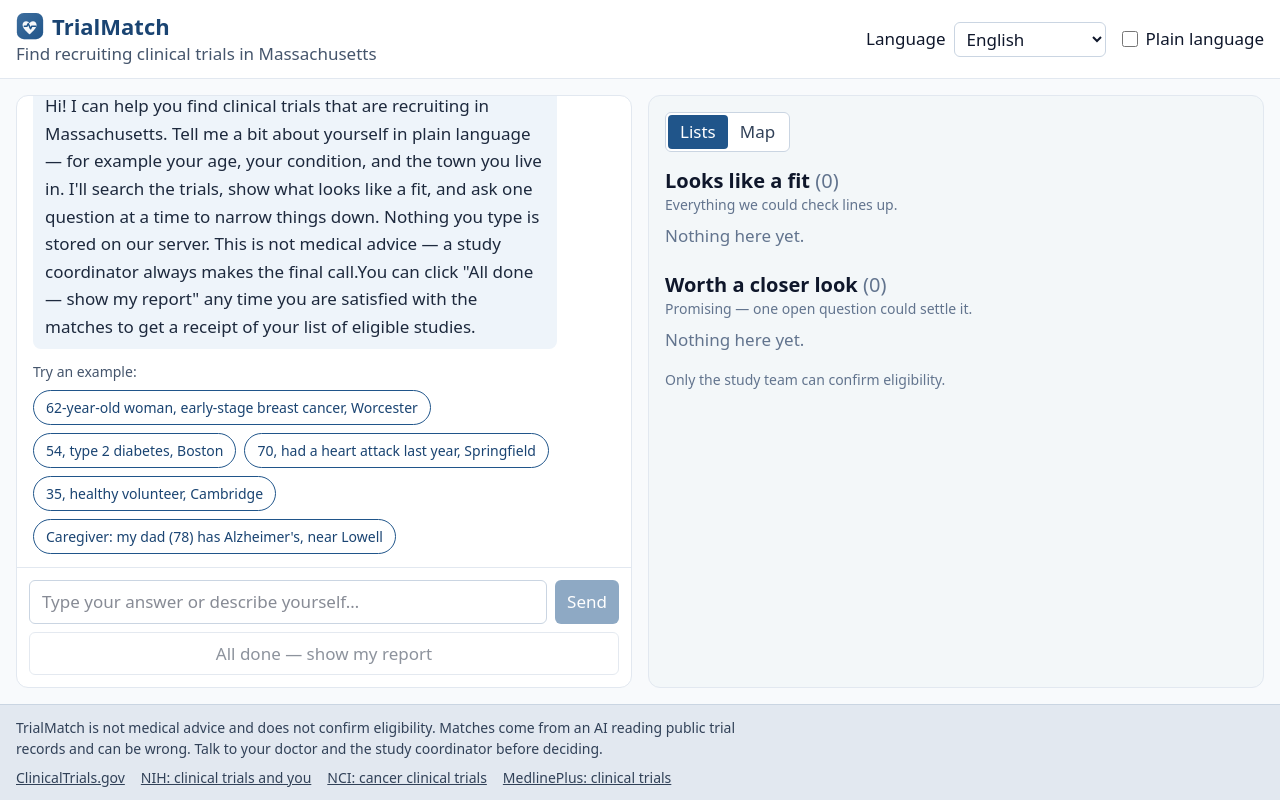
it: App › renders intro, user and assistant messages
(page scrolled)
Expected: the list item "nothing you type is stored" is shown, [45, 96, 542, 338]
In the field named "Your message": (288, 602) [29, 580, 547, 624], type "I'm 54 with type 2 diabetes"
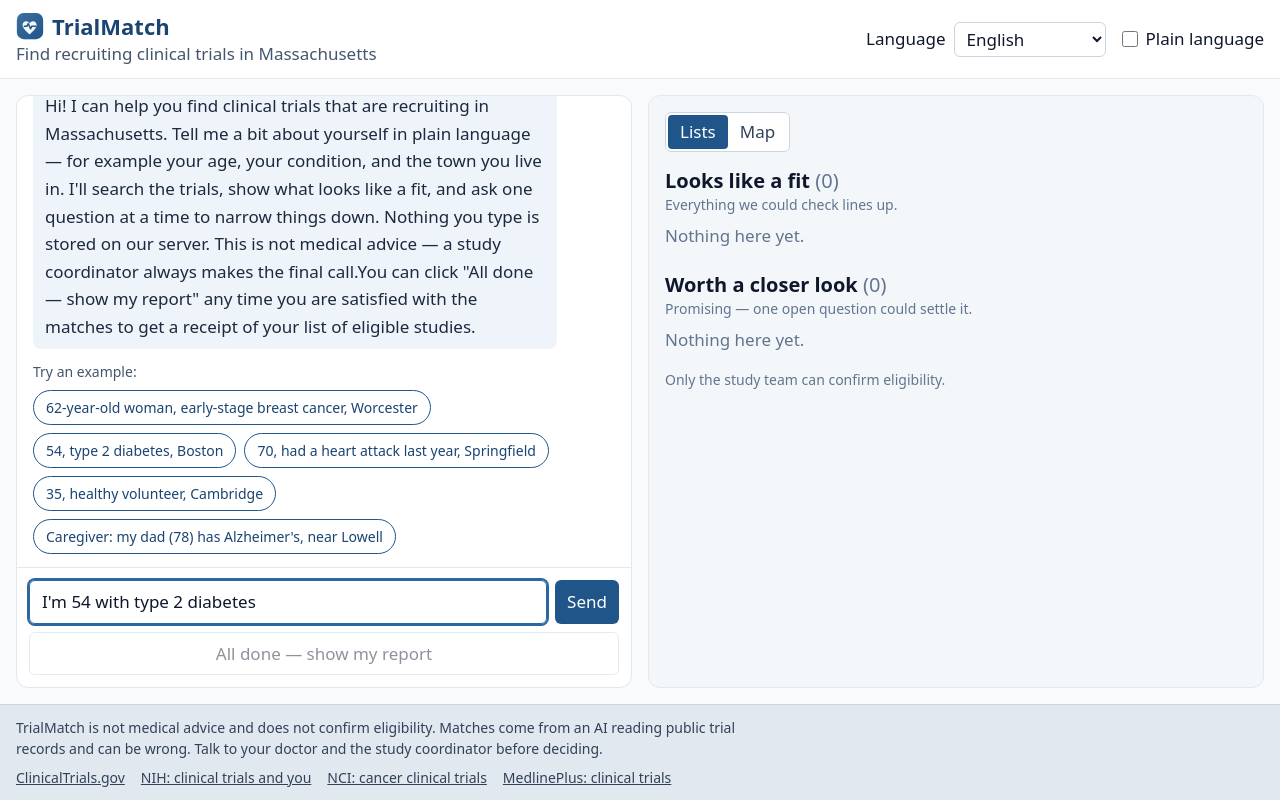
Click the button "Send": (587, 602) [555, 580, 619, 624]
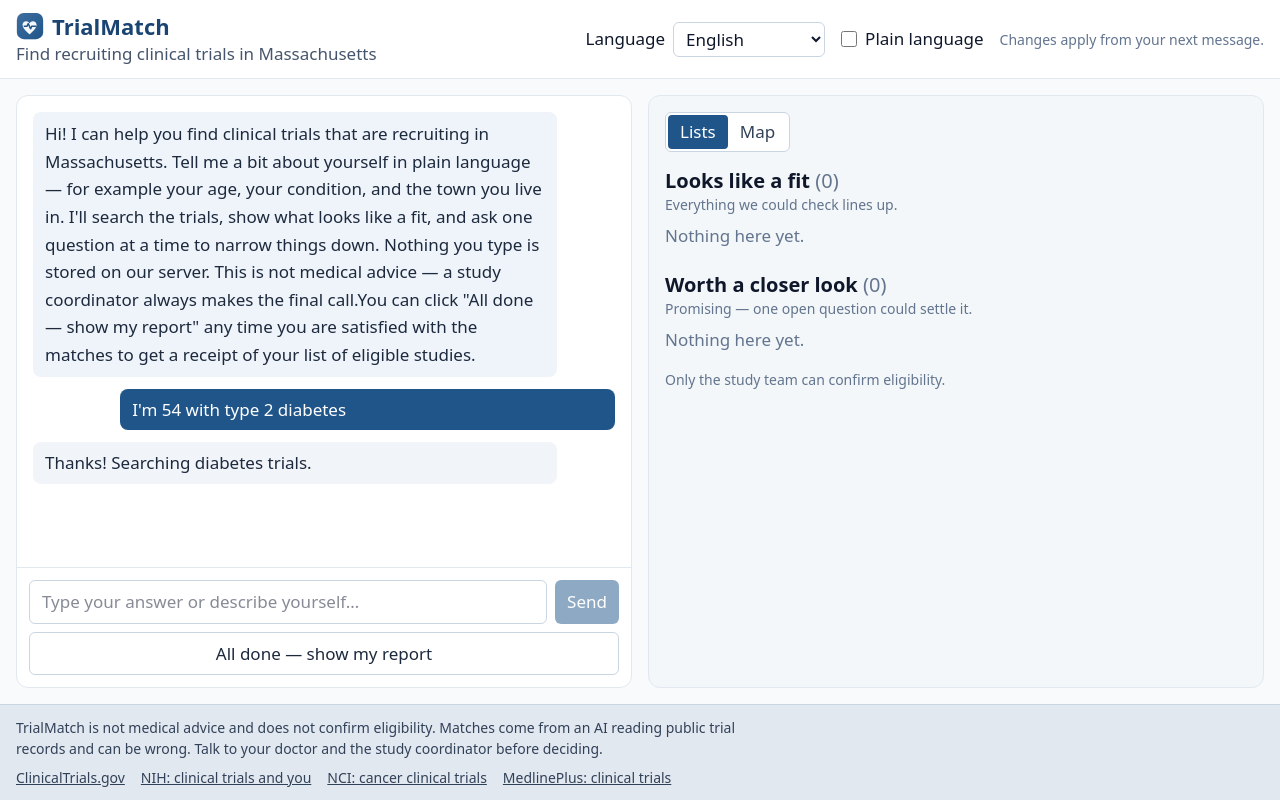
Expected: the list item "I'm 54 with type 2 diabetes" is shown, [120, 389, 615, 430]
Expected: the list item "Thanks! Searching diabetes trials." is shown, [33, 442, 557, 484]
